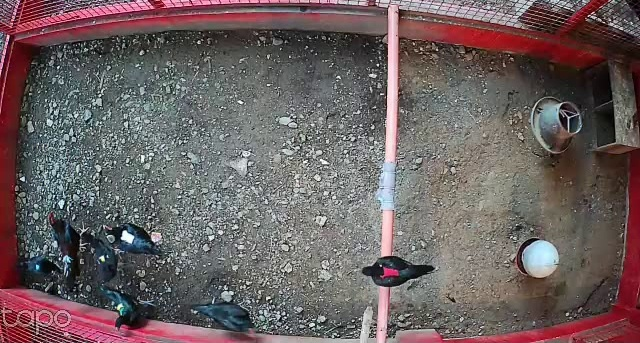Chicken: (100, 284, 162, 333), (191, 300, 265, 341), (83, 233, 133, 289), (359, 251, 436, 286), (103, 222, 162, 257), (17, 256, 64, 278)
Rooster: (48, 208, 92, 291)
Saddle_Color_Blue: (36, 263, 40, 269)
Saddle_Color_Red: (379, 265, 401, 278)
Saddle_Color_White: (120, 231, 135, 245)
Saddle_Color_Yellow: (97, 255, 106, 263)
Saddle_Color_YellowGreen: (117, 302, 125, 315)
